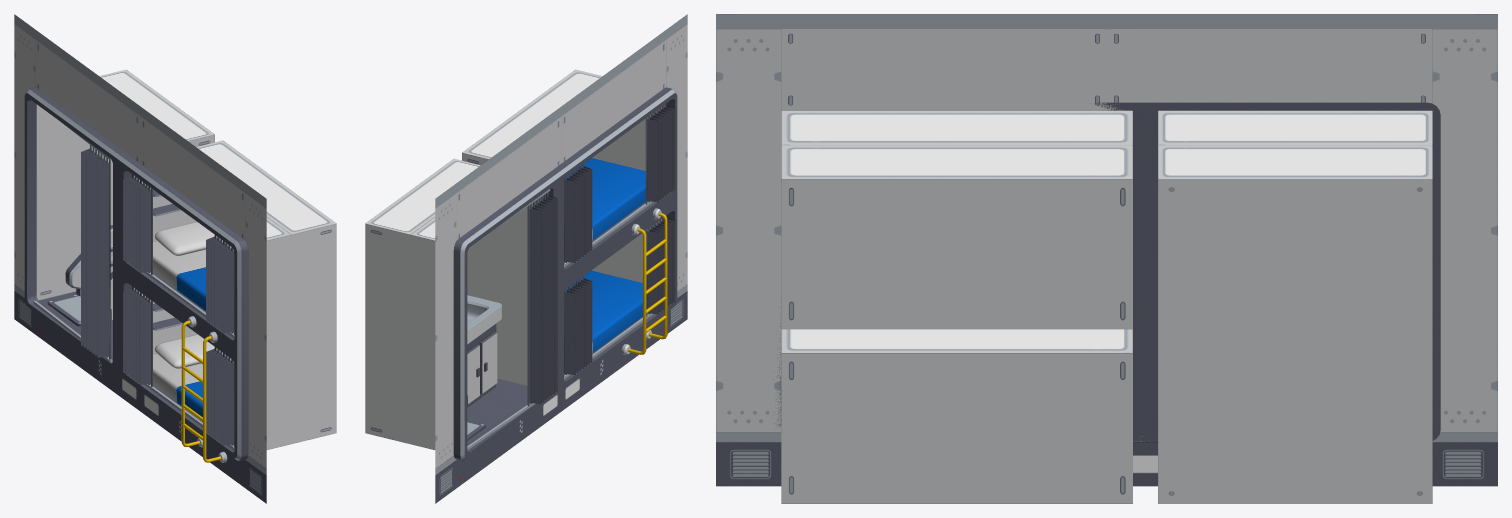
Rendered from Interior_Wall_Bed_01.FBX.
3 views of the same model, side by side, from view 1: azimuth 30°, elevation 25°; view 2: azimuth 150°, elevation 25°; view 3: azimuth 270°, elevation 25° (orthographic). The views are drawn at different scales.
Visible parts, largest first — view 1: Interior_Wall_Bed_01, Bed_B, Bed_A, WC_01; view 2: Interior_Wall_Bed_01, Bed_B, Bed_A, Bassin, Door_Right, Door_Left; view 3: Interior_Wall_Bed_01.
Part boxes in pixels (<box>): Interior_Wall_Bed_01: <box>14,14,336,503</box>; Bed_B: <box>153,221,233,310</box>; Bed_A: <box>153,334,233,417</box>; WC_01: <box>47,225,112,326</box>; Interior_Wall_Bed_01: <box>365,14,687,503</box>; Bed_B: <box>564,158,645,240</box>; Bed_A: <box>564,270,642,352</box>; Bassin: <box>467,295,501,407</box>; Door_Right: <box>480,332,497,393</box>; Door_Left: <box>467,344,480,404</box>; Interior_Wall_Bed_01: <box>716,14,1497,503</box>.
Size of the model in its own units: 1.55 by 4 by 6.
Materials: 4 (4 with a texture image).
